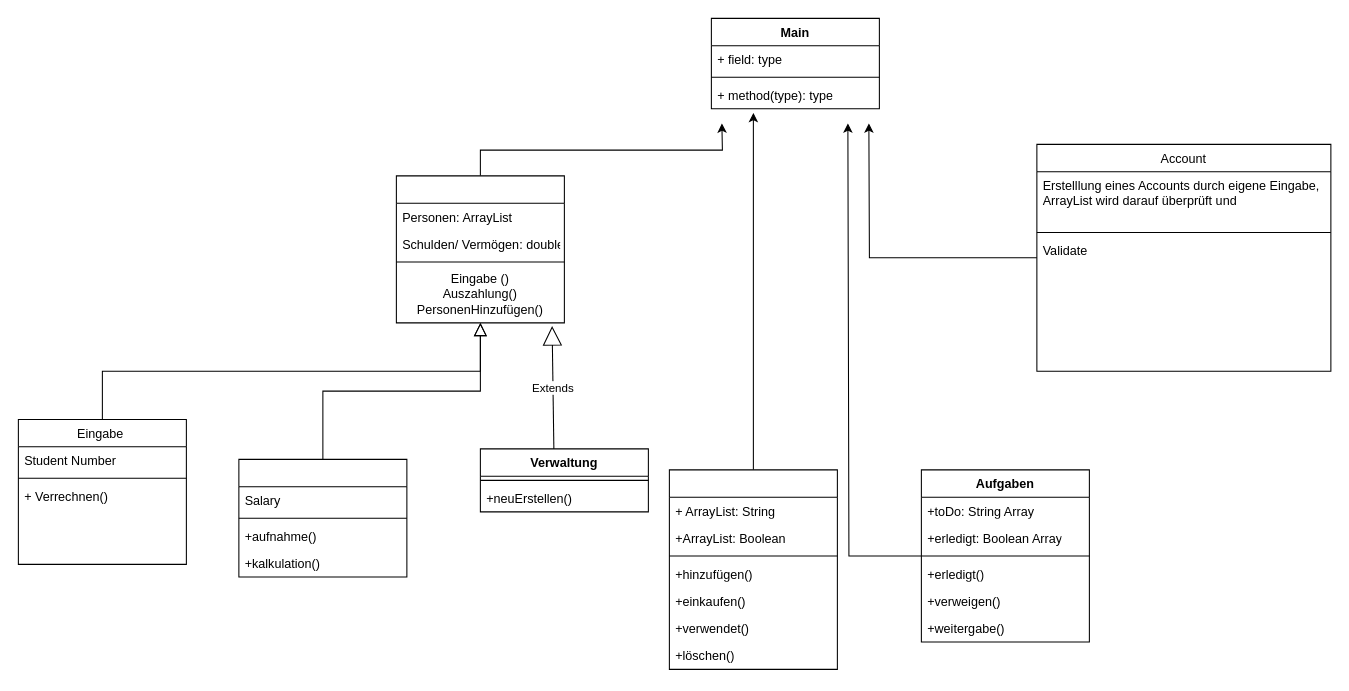
The diagram is 1349 pixels wide and 691 high, and some of its shapes have lost their labels. Each missing label, with the box of its shape:
Einkaufsliste: (668, 469, 837, 669)
Kostensplitten: (395, 175, 564, 323)
Zahlung: (238, 458, 407, 577)
